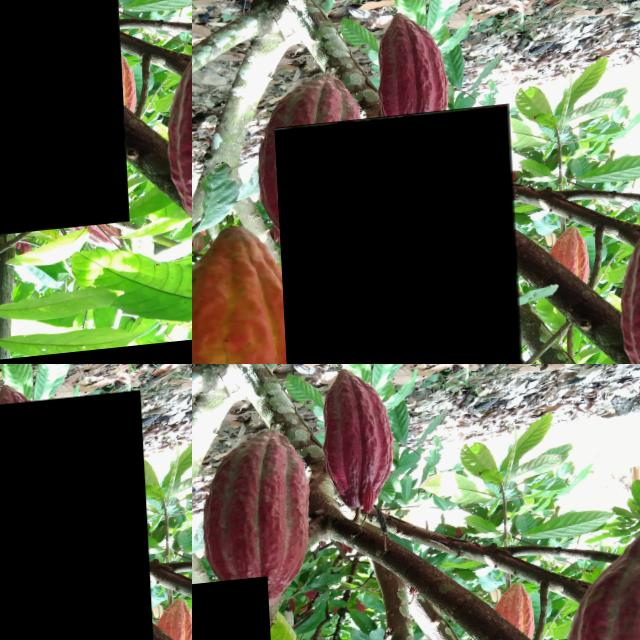Sana: (272, 112, 517, 364), (0, 399, 152, 640), (0, 0, 123, 260), (205, 429, 312, 611), (312, 371, 398, 521), (493, 585, 529, 640)
